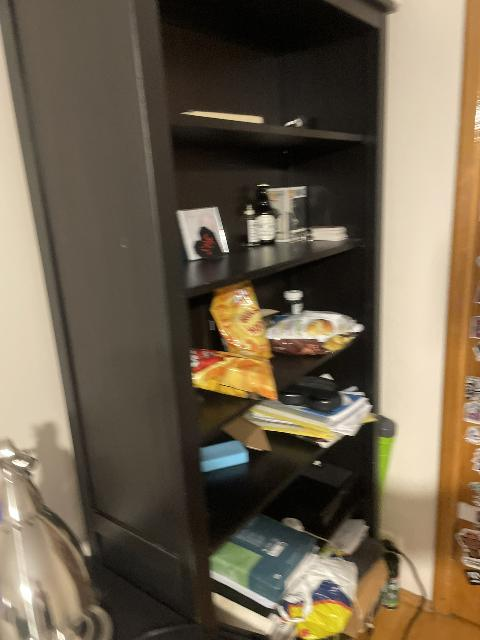Chio Cascaval 125g: (191, 348, 278, 402)
Chio Hula Hoops Cheese 70g: (210, 281, 275, 358)
Lays Beef Grilled Ribs 125g: (266, 312, 363, 359)
